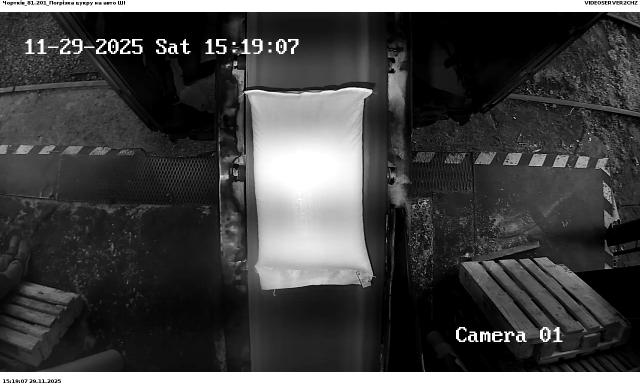bag: (245, 88, 374, 290)
